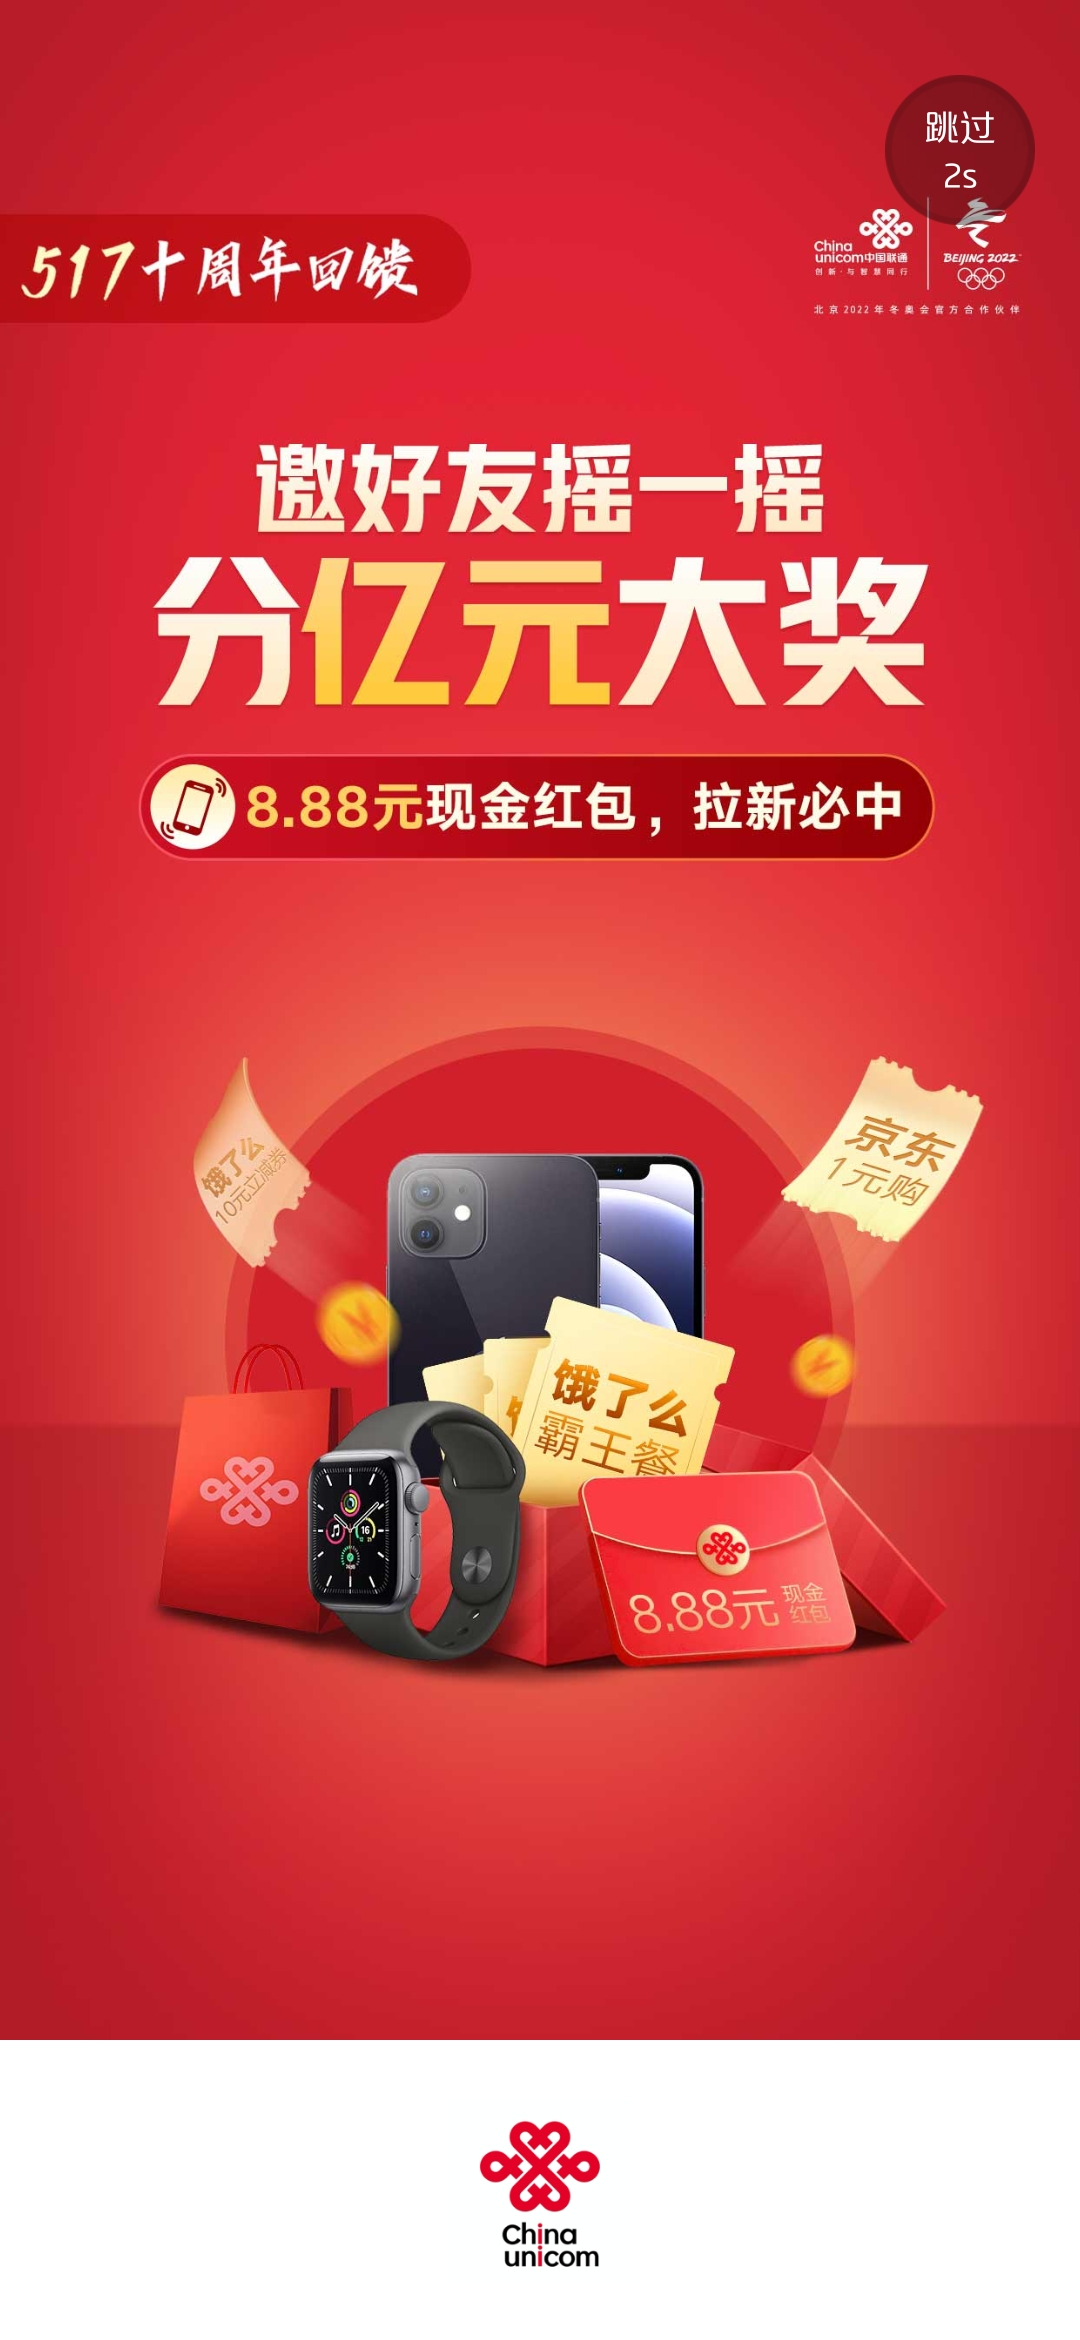skip: (908, 78, 1008, 224)
